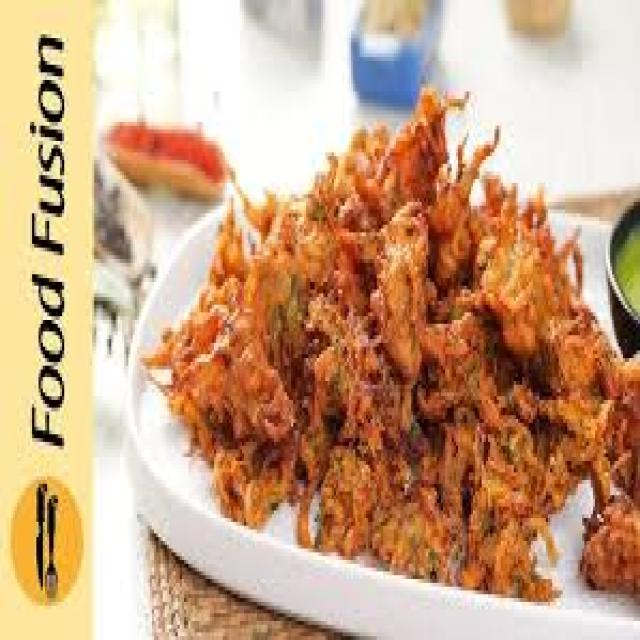BAJI: (143, 88, 638, 598)
